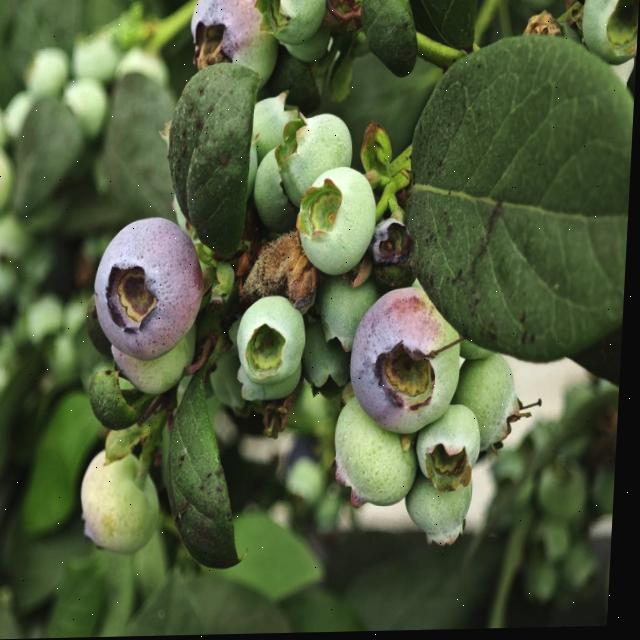Semi-RipeBlueBerry: (354, 297, 461, 439), (96, 218, 205, 353)
UnripeBlueBerry: (334, 394, 425, 510), (85, 448, 165, 553), (276, 111, 358, 213), (294, 171, 377, 269), (455, 354, 525, 459), (237, 295, 309, 394), (419, 404, 486, 492), (408, 481, 480, 550)
